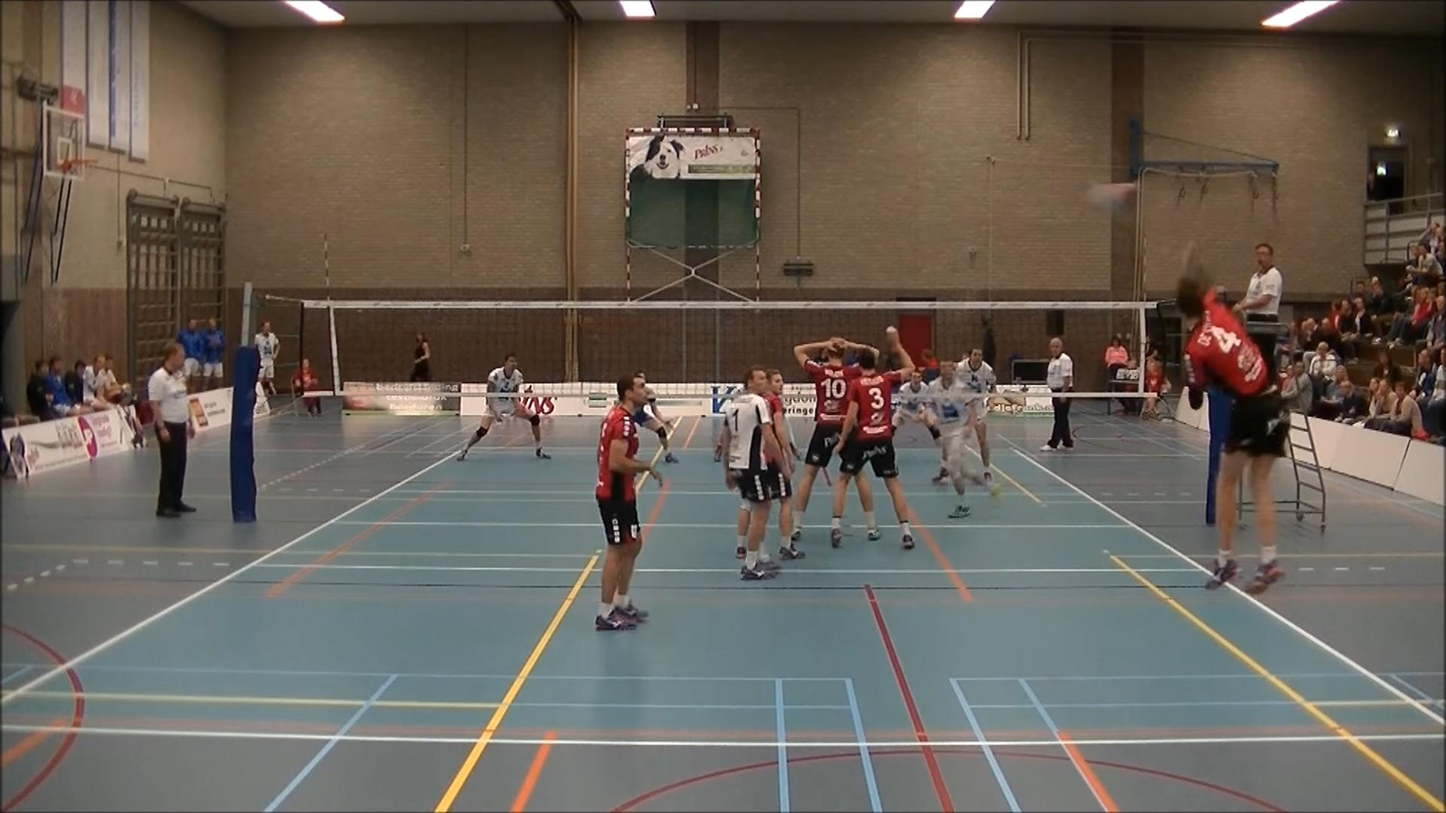battuta: (1166, 263, 1315, 605)
